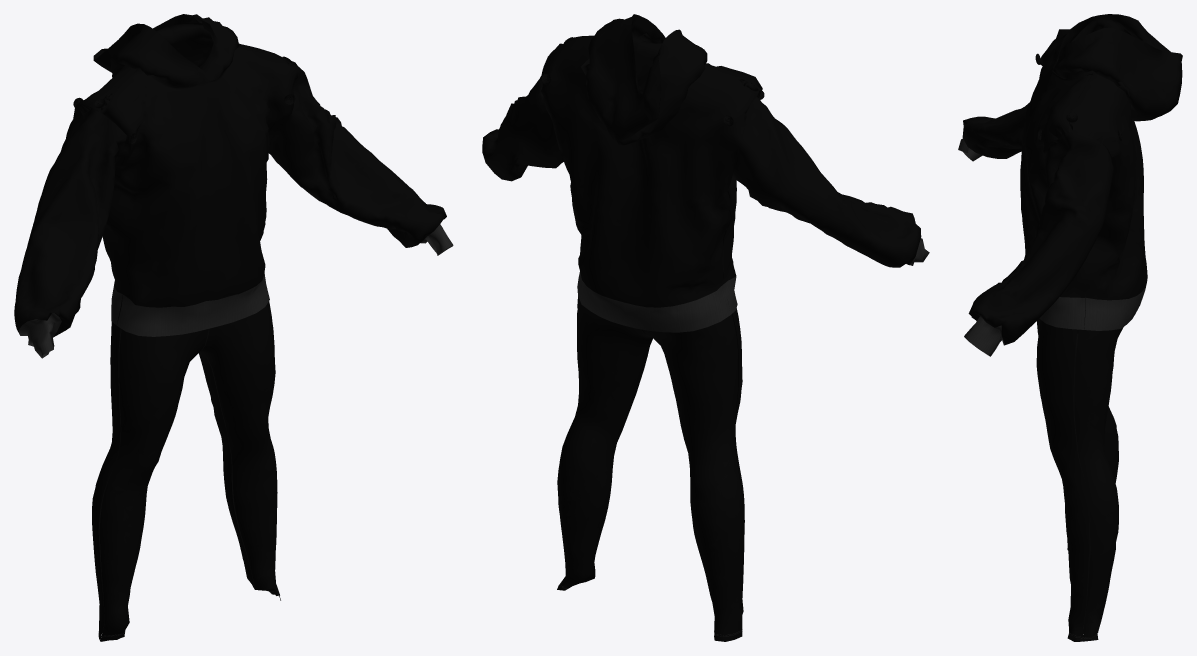
Rendered from legging+hoodielowpoly.fbx.
The picture shows the model from 3 angles, left to right: view 1: azimuth 30°, elevation 25°; view 2: azimuth 150°, elevation 25°; view 3: azimuth 270°, elevation 25°; orthographic projection. The views are drawn at different scales.
Visible parts, largest first — view 1: Paige hoodie 带帽衫版本A产前样更新_袖口罗文_2.001, StitchMatShape_764176; view 2: Paige hoodie 带帽衫版本A产前样更新_袖口罗文_2.001, StitchMatShape_764176; view 3: Paige hoodie 带帽衫版本A产前样更新_袖口罗文_2.001, StitchMatShape_764176.
Part boxes in pixels (<box>): Paige hoodie 带帽衫版本A产前样更新_袖口罗文_2.001: <box>14,14,453,358</box>; StitchMatShape_764176: <box>92,286,280,641</box>; Paige hoodie 带帽衫版本A产前样更新_袖口罗文_2.001: <box>482,14,929,332</box>; StitchMatShape_764176: <box>557,246,744,641</box>; Paige hoodie 带帽衫版本A产前样更新_袖口罗文_2.001: <box>958,14,1182,356</box>; StitchMatShape_764176: <box>1036,259,1123,641</box>.
Size of the model in its own units: 107 by 143 by 49.83.
Materials: 40 (40 with a texture image).
